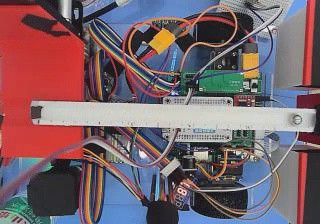ironball: (291, 114, 303, 124)
